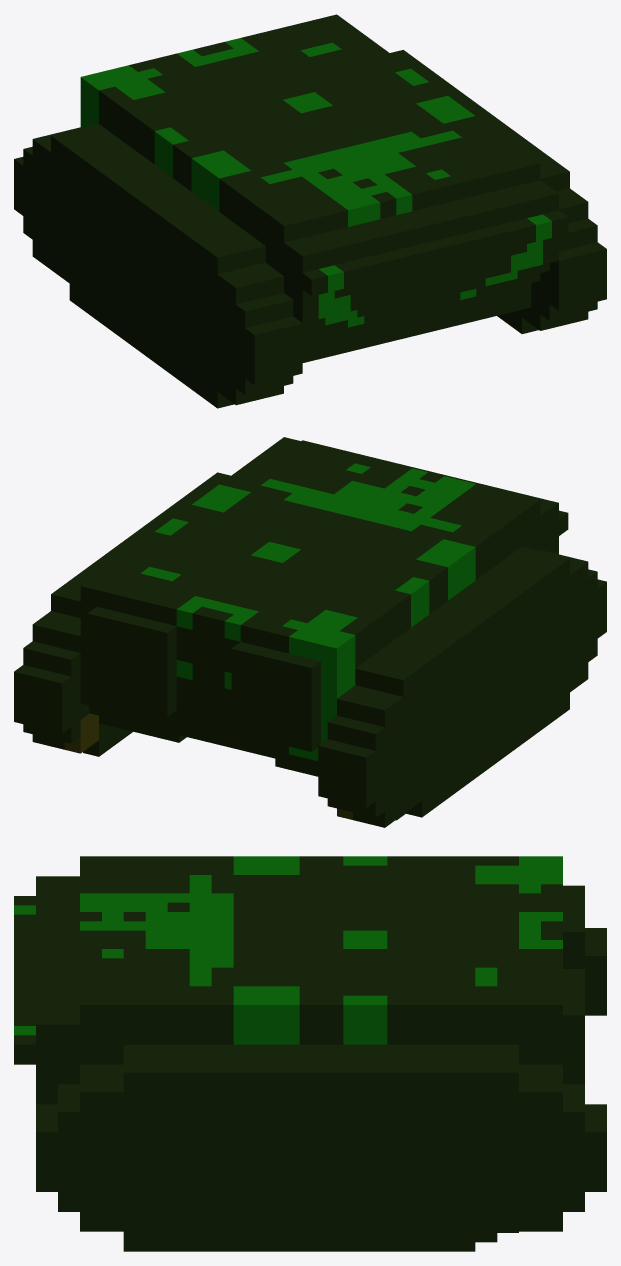
File: tank.obj
3 renders of one model, top to bottom at view 1: azimuth 30°, elevation 25°; view 2: azimuth 150°, elevation 25°; view 3: azimuth 270°, elevation 25°, orthographic. The views are drawn at different scales.
Bounding box in the file's own units: 2.2 × 1.1 × 2.7.
